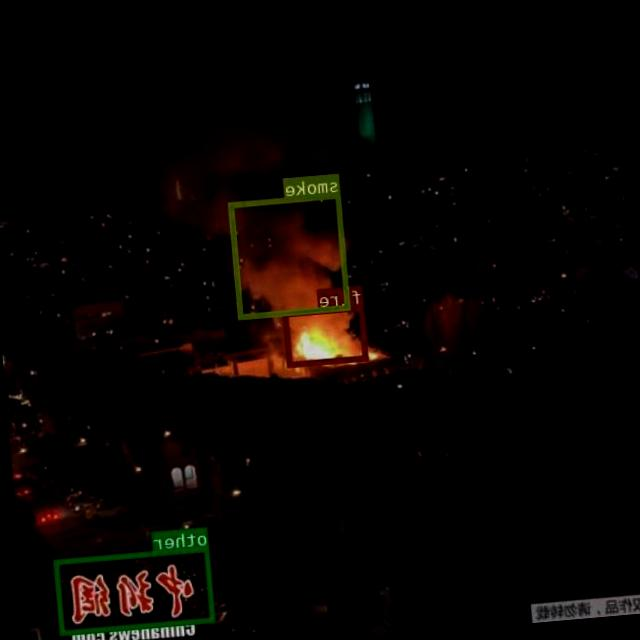fire: (284, 304, 368, 366)
smoke: (229, 192, 352, 318)
